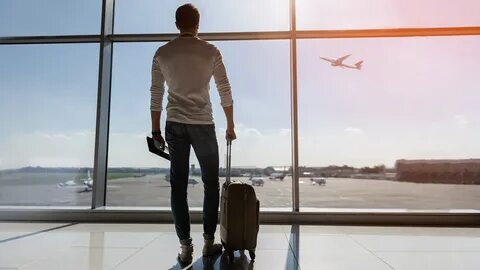awake: (150, 3, 237, 265)
